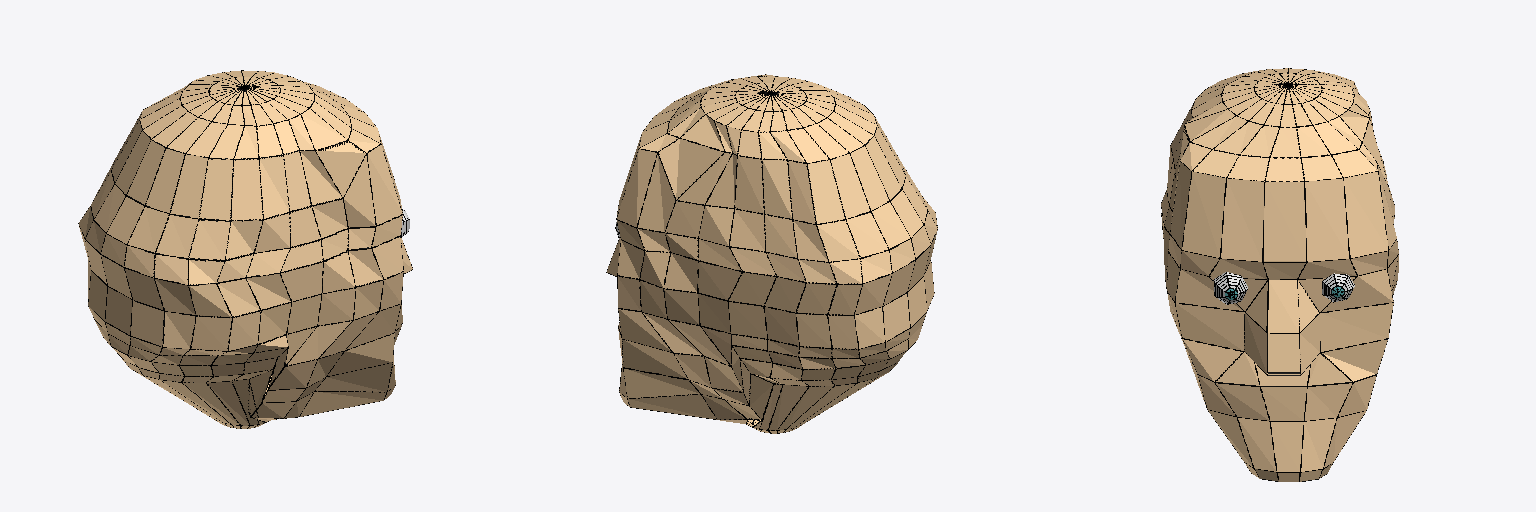
3 renders of one model, left to right at view 1: azimuth 30°, elevation 25°; view 2: azimuth 150°, elevation 25°; view 3: azimuth 270°, elevation 25°, orthographic.
Parts seen in each view (by area): view 1: head4_Sphere; view 2: head4_Sphere; view 3: head4_Sphere.
Boxes of the visible parts, x1=… form: head4_Sphere: x1=78, y1=70, x2=412, y2=428; head4_Sphere: x1=606, y1=74, x2=937, y2=433; head4_Sphere: x1=1161, y1=68, x2=1398, y2=481.
Bounding box in the file's own units: 0.2062 × 0.2181 × 0.1403.
1 materials, 1 textured.